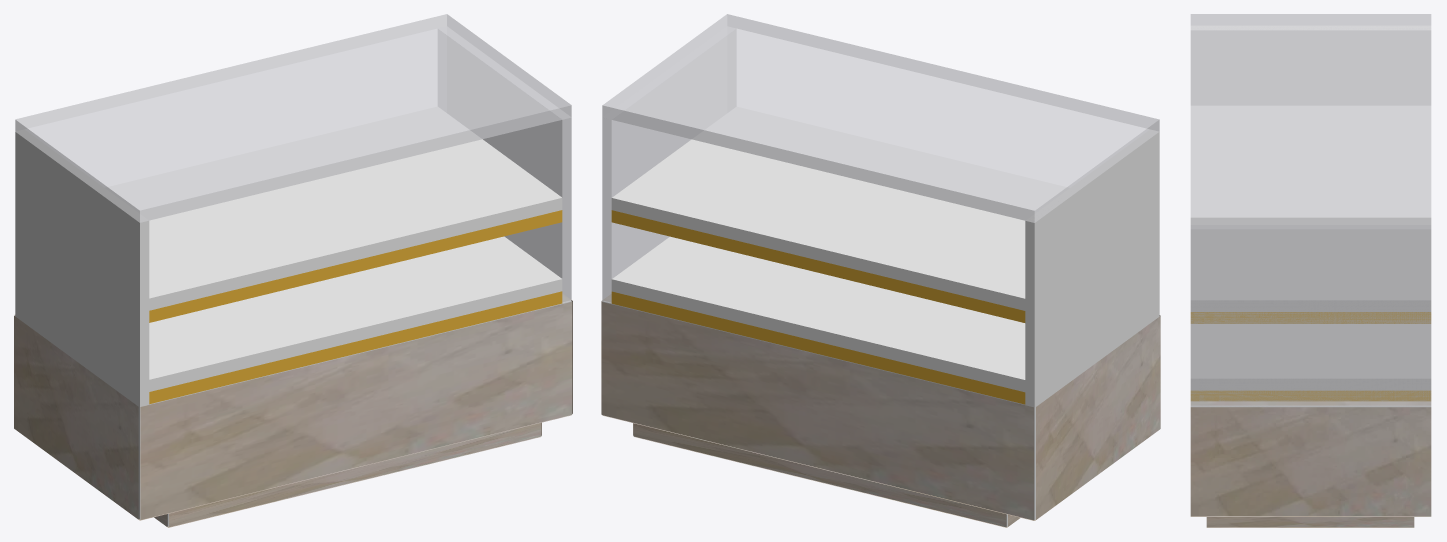
File: tiem-banh-quay.glb
3 views of the same model, side by side, from view 1: azimuth 30°, elevation 25°; view 2: azimuth 150°, elevation 25°; view 3: azimuth 270°, elevation 25° (orthographic). The views are drawn at different scales.
Parts seen in each view (by area): view 1: tiem-banh-quay; view 2: tiem-banh-quay; view 3: tiem-banh-quay.
Part boxes in pixels (x1=…): tiem-banh-quay: x1=14, y1=14, x2=572, y2=527; tiem-banh-quay: x1=601, y1=14, x2=1160, y2=527; tiem-banh-quay: x1=1190, y1=14, x2=1431, y2=527.
Bounding box in the file's own units: 4.02 × 2.94 × 2.02.
4 materials, 1 textured.
